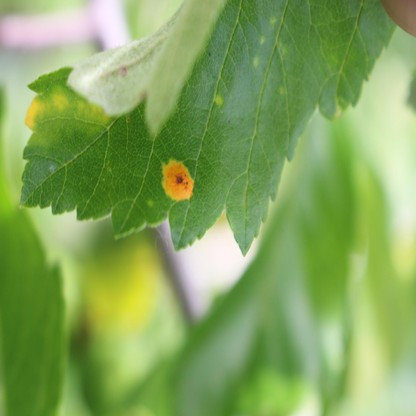rust: (26, 95, 110, 133), (161, 157, 194, 200)
